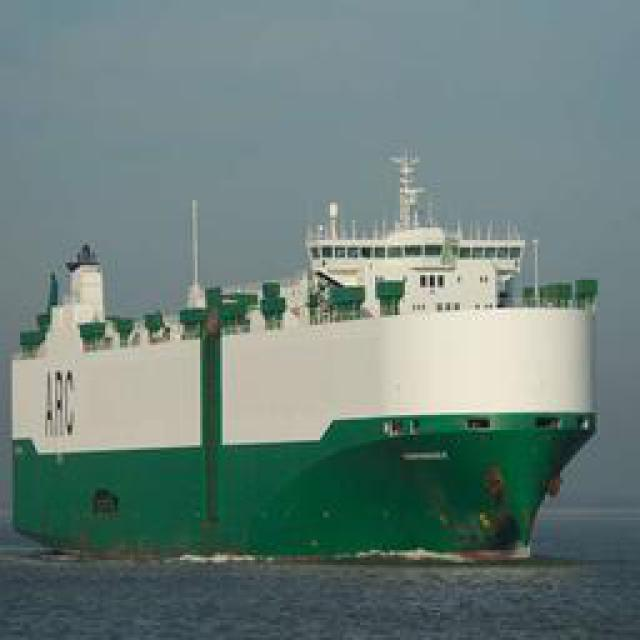Ship: (298, 205, 536, 313)
